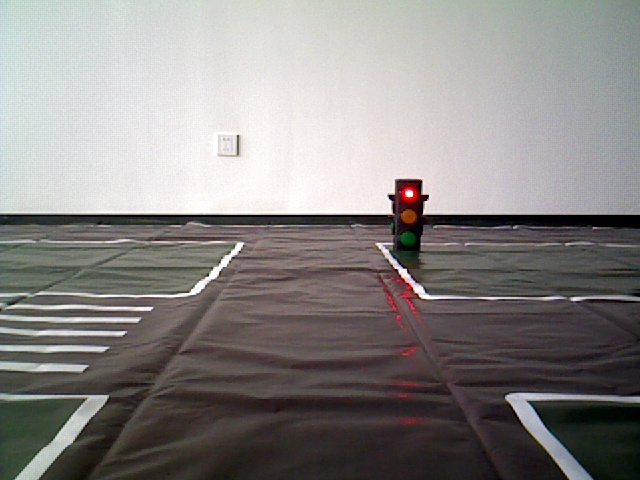red: (394, 181, 421, 249)
